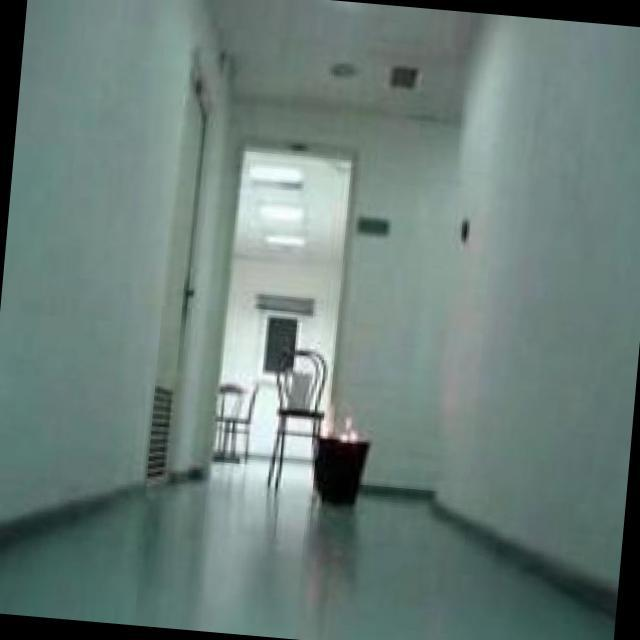Fire: (340, 416, 368, 443)
